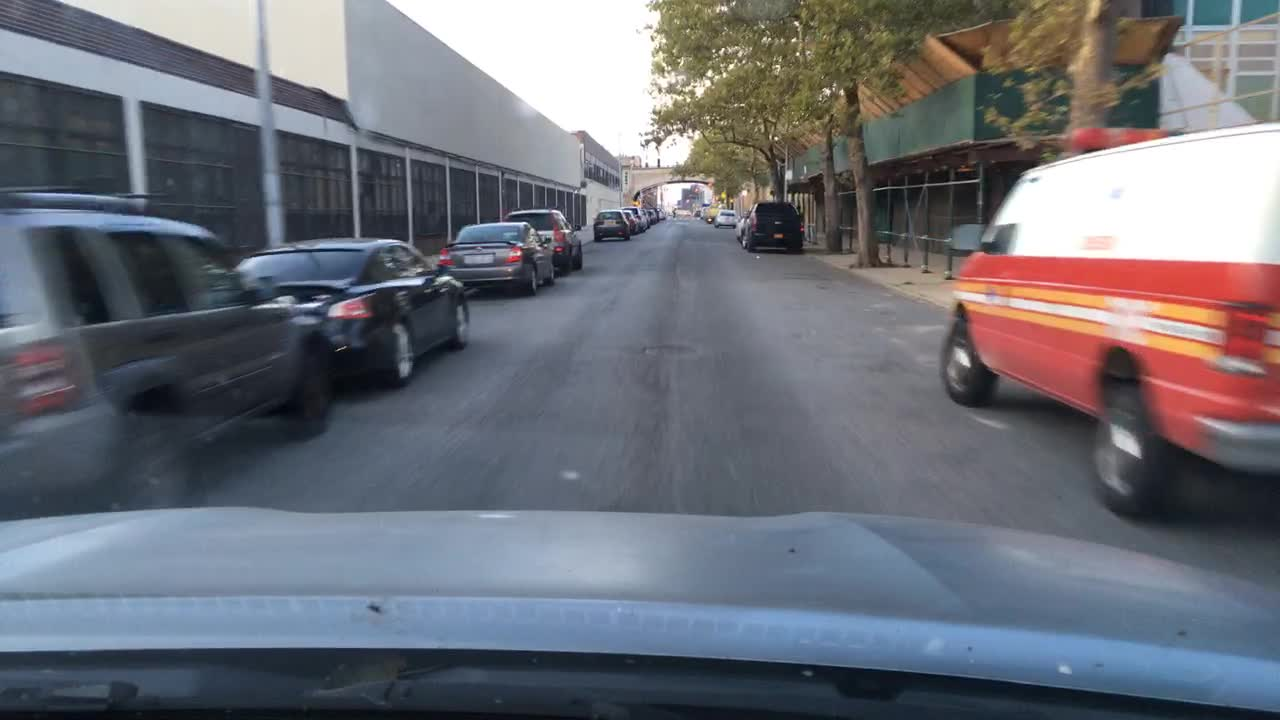car: (932, 121, 1278, 521), (2, 183, 339, 519), (237, 238, 472, 400), (431, 219, 555, 296), (501, 207, 586, 277), (737, 202, 803, 255), (593, 210, 630, 242), (622, 207, 647, 232), (716, 207, 737, 229), (621, 212, 637, 237), (704, 207, 717, 224), (698, 207, 711, 219), (643, 212, 657, 223), (657, 208, 667, 222)
